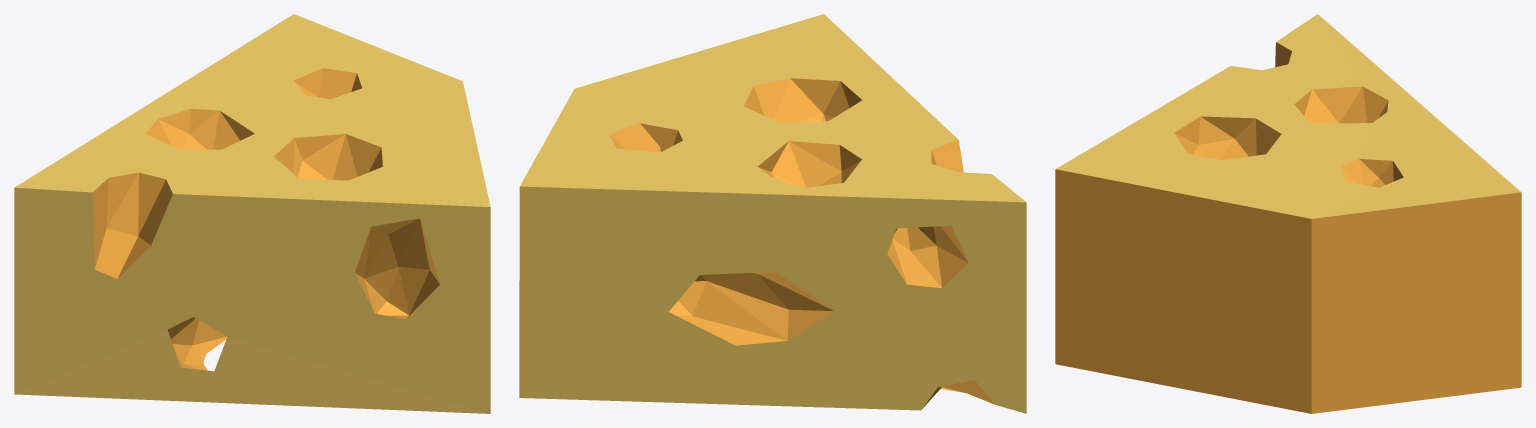
File: CheeseSlice.fbx
The picture shows the model from 3 angles, left to right: view 1: azimuth 30°, elevation 25°; view 2: azimuth 150°, elevation 25°; view 3: azimuth 270°, elevation 25°; orthographic projection. The views are drawn at different scales.
Parts seen in each view (by area): view 1: Cylinder; view 2: Cylinder; view 3: Cylinder.
Boxes of the visible parts, x1=… form: Cylinder: x1=14, y1=14, x2=490, y2=413; Cylinder: x1=519, y1=14, x2=1026, y2=413; Cylinder: x1=1055, y1=14, x2=1521, y2=413.
Size of the model in its own units: 99.6 by 44.31 by 95.74.
